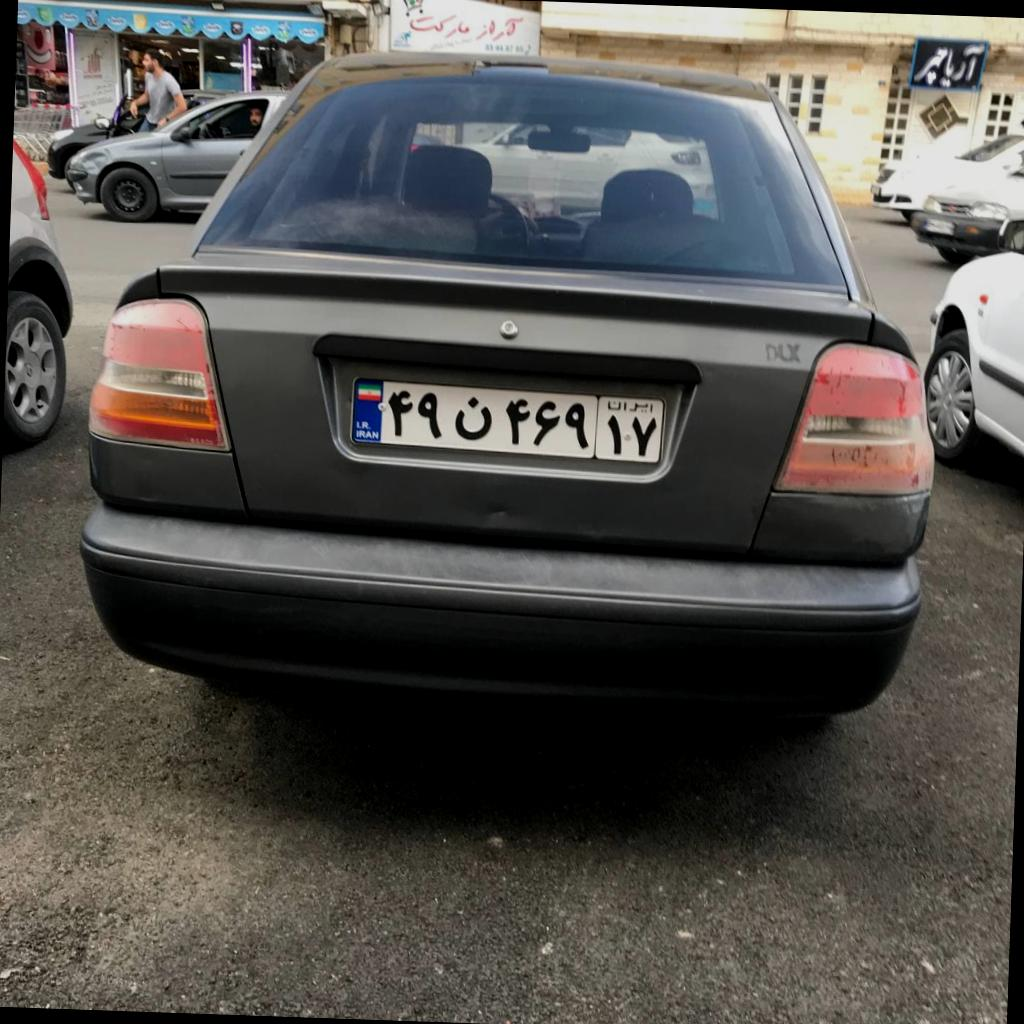Plates: (352, 377, 663, 463)
